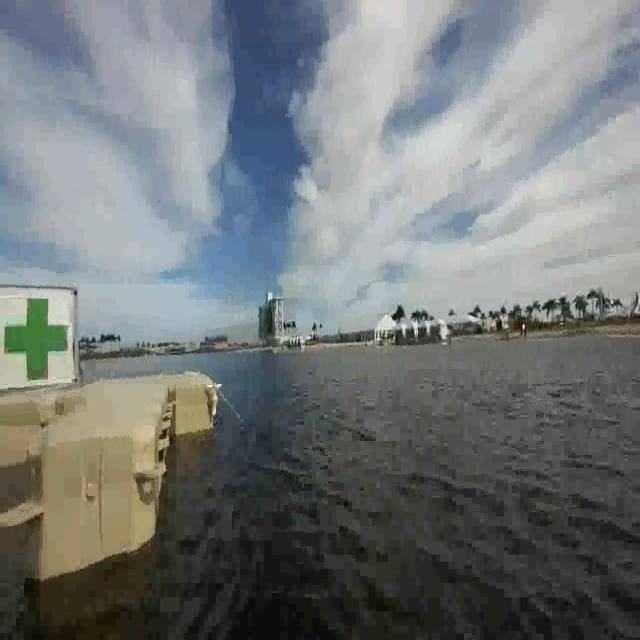blue-cross: (1, 289, 71, 387)
